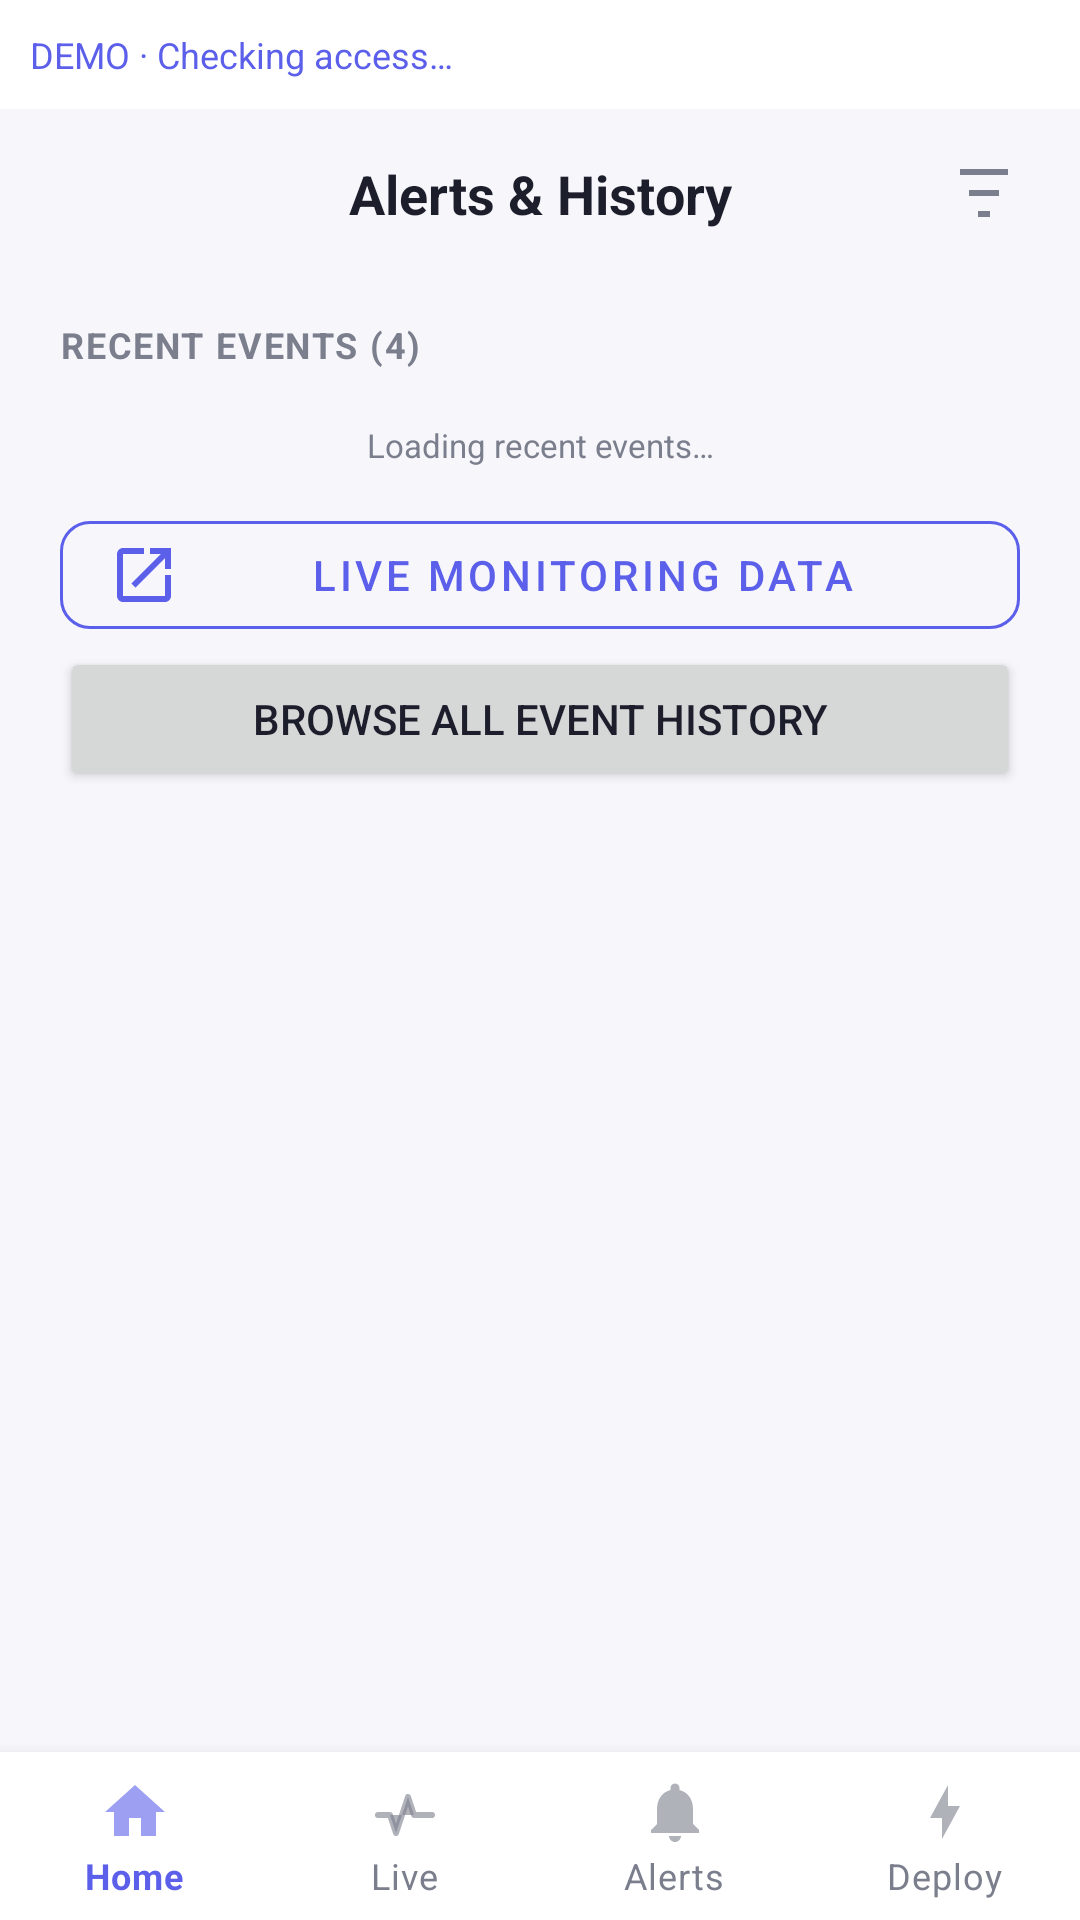

Point at icon controls on the screen. Image size 1080×1920, points as (x,y).
Filter: (984,193)
